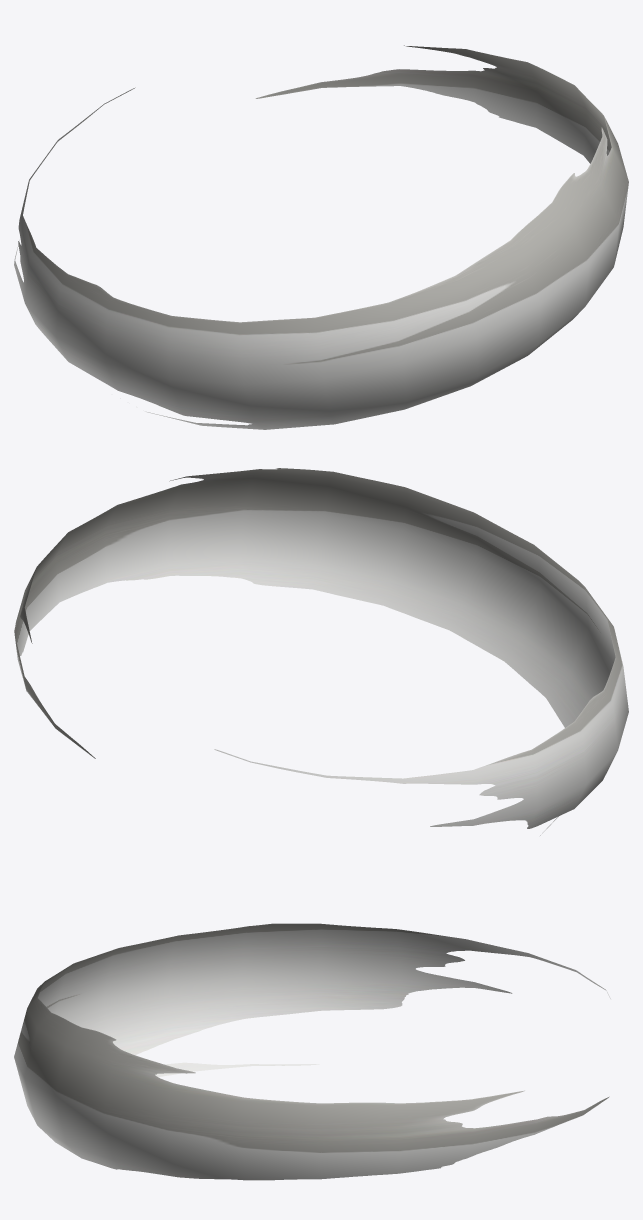
The model's file is EF_xs_feng_01.FBX.
3 renders of one model, top to bottom at view 1: azimuth 30°, elevation 25°; view 2: azimuth 150°, elevation 25°; view 3: azimuth 270°, elevation 25°, orthographic.
Parts seen in each view (by area): view 1: EF_xs_feng_01; view 2: EF_xs_feng_01; view 3: EF_xs_feng_01.
Part boxes in pixels (x1=…): EF_xs_feng_01: x1=14, y1=45, x2=628, y2=429; EF_xs_feng_01: x1=14, y1=468, x2=628, y2=835; EF_xs_feng_01: x1=14, y1=923, x2=610, y2=1180.
Size of the model in its own units: 109 by 110 by 45.86.
